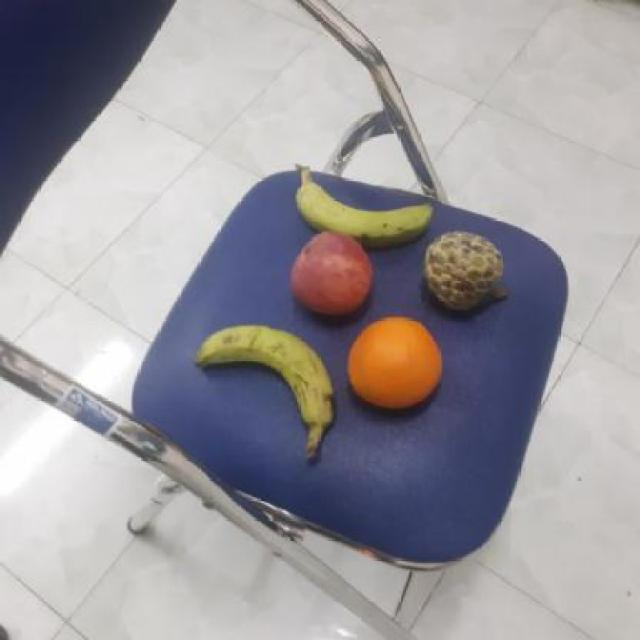apple: (288, 228, 375, 318)
banana: (194, 322, 337, 433), (292, 176, 434, 249)
oren: (341, 310, 447, 415)
sugar apple: (418, 231, 507, 317)
